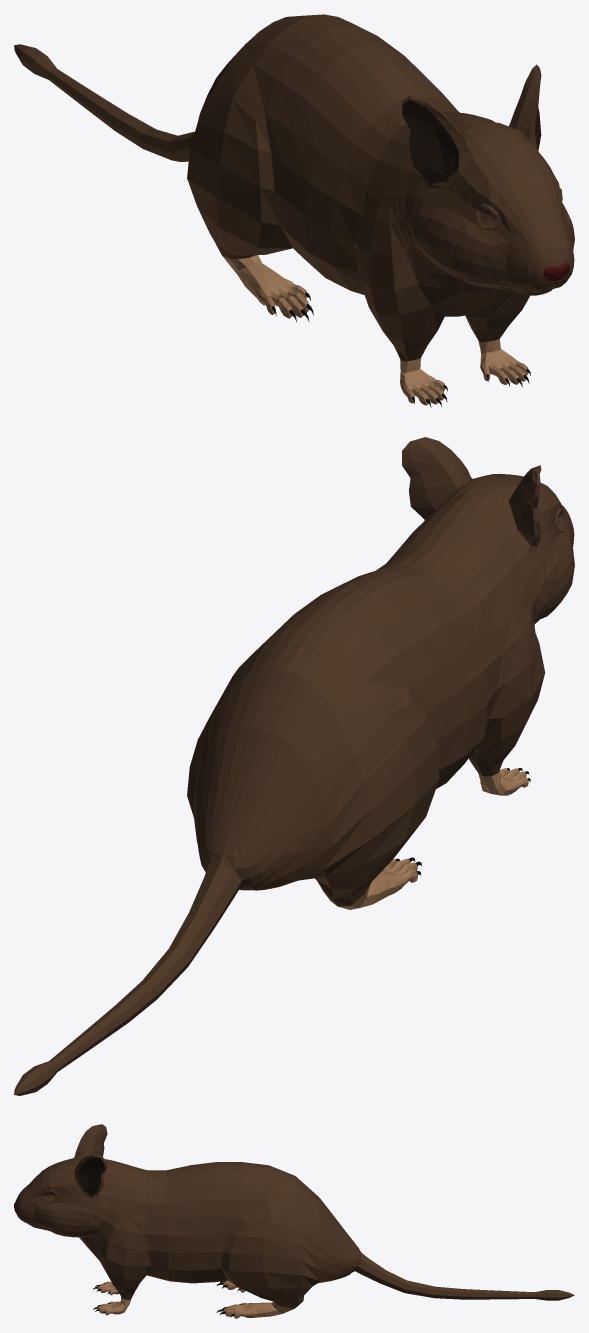
Rendered from degu_degu.obj.
3 renders of one model, top to bottom at view 1: azimuth 30°, elevation 25°; view 2: azimuth 150°, elevation 25°; view 3: azimuth 270°, elevation 25°, orthographic. The views are drawn at different scales.
Size of the model in its own units: 0.07 by 0.1056 by 0.3332.
